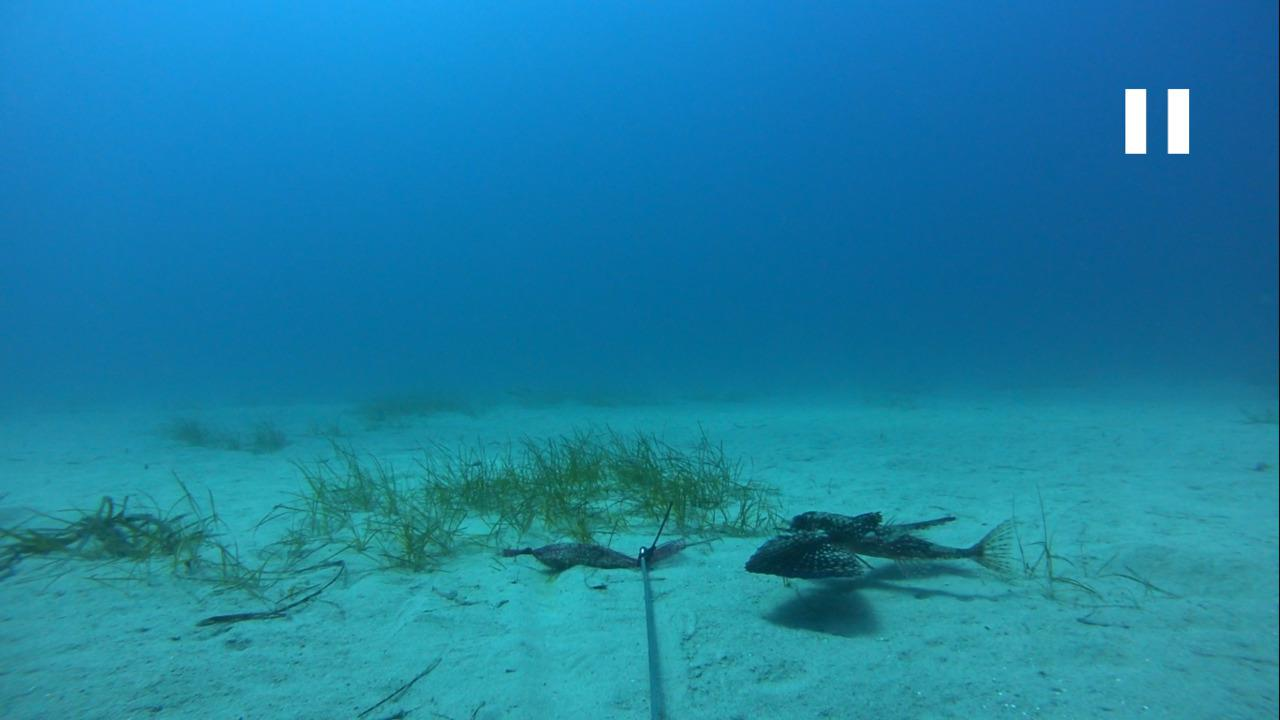dactylopterus: (745, 504, 1021, 585)
